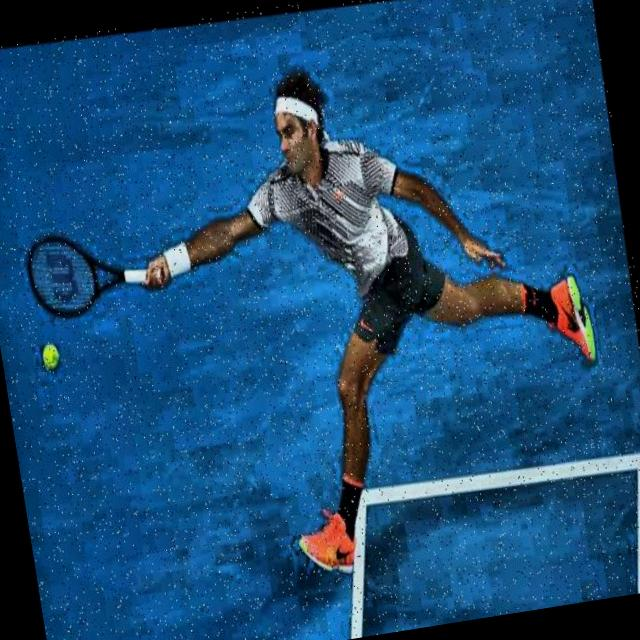Tennis Ball: (40, 342, 66, 378)
